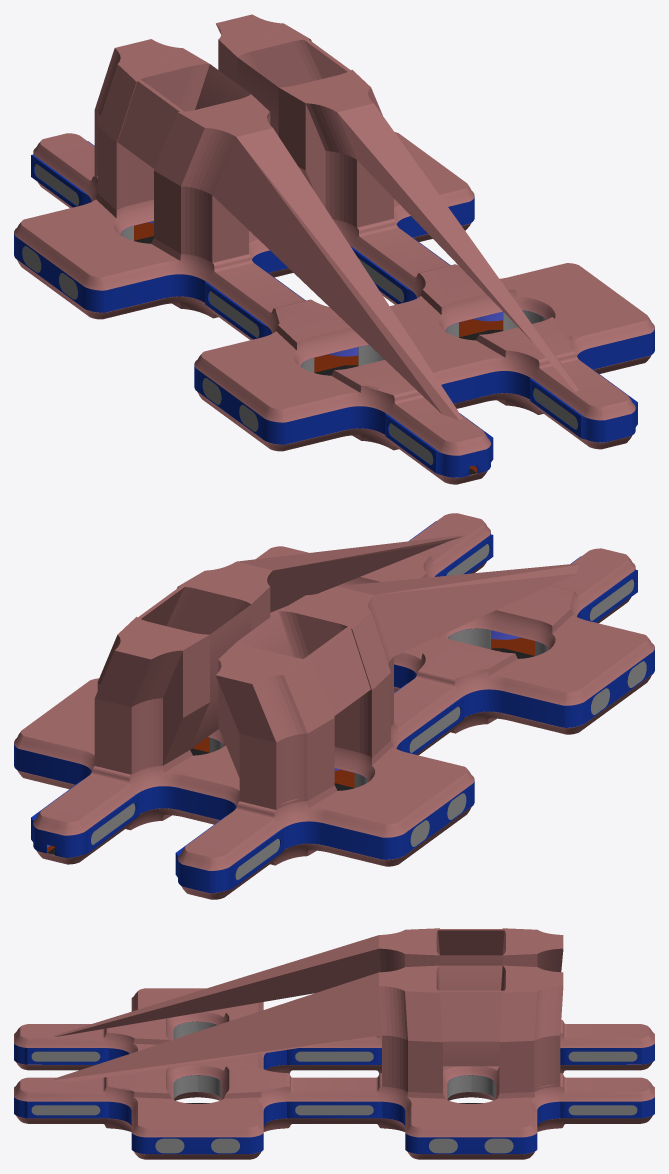
The model's file is SS Module 3.FBX.
3 renders of one model, top to bottom at view 1: azimuth 30°, elevation 25°; view 2: azimuth 150°, elevation 25°; view 3: azimuth 270°, elevation 25°, orthographic. The views are drawn at different scales.
Parts seen in each view (by area): view 1: Floor, Object007, Outer Floor, Floor009; view 2: Floor, Object007, Outer Floor, Floor009; view 3: Floor, Object007, Outer Floor.
Part boxes in pixels (<box>): Floor: <box>14,14,654,477</box>; Object007: <box>14,141,654,477</box>; Outer Floor: <box>16,182,651,484</box>; Floor009: <box>134,221,598,477</box>; Floor: <box>14,513,654,892</box>; Object007: <box>14,521,654,892</box>; Outer Floor: <box>14,562,653,899</box>; Floor009: <box>47,630,534,893</box>; Floor: <box>14,928,654,1153</box>; Object007: <box>14,1021,654,1154</box>; Outer Floor: <box>16,1062,652,1159</box>.
Bounding box in the file's own units: 183 × 79.9 × 346.
